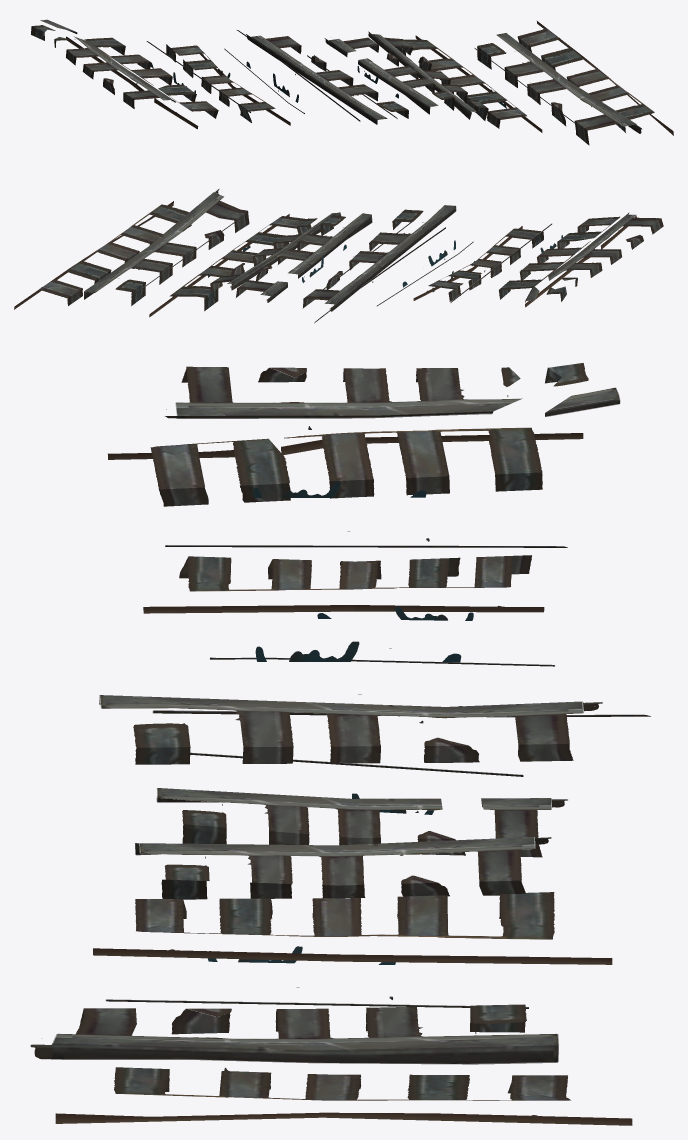
The model's file is WuJian07.FBX.
The picture shows the model from 3 angles, top to bottom: view 1: azimuth 30°, elevation 25°; view 2: azimuth 150°, elevation 25°; view 3: azimuth 270°, elevation 25°; orthographic projection. The views are drawn at different scales.
Visible parts, largest first — view 1: WuJian07; view 2: WuJian07; view 3: WuJian07.
Part boxes in pixels (<box>): WuJian07: <box>31,19,673,145</box>; WuJian07: <box>14,189,663,323</box>; WuJian07: <box>30,363,650,1125</box>.
Bounding box in the file's own units: 340 × 86.04 × 187.
